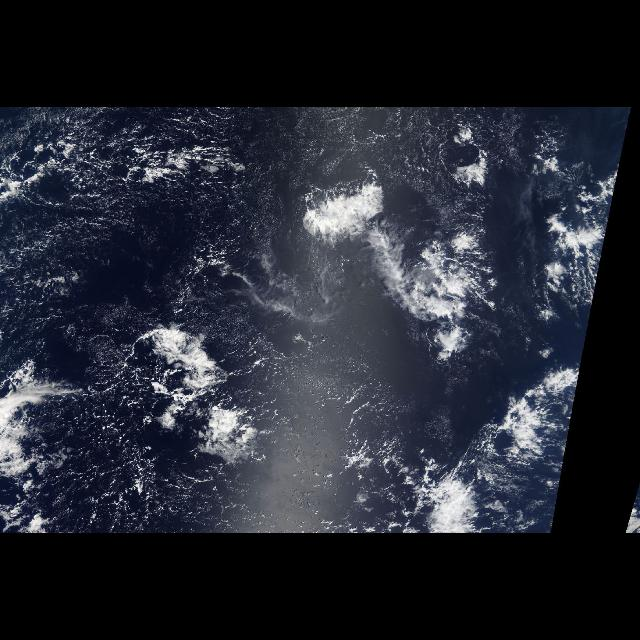Gravel: (2, 110, 386, 532)
Sugar: (8, 204, 292, 334), (259, 351, 419, 527)
